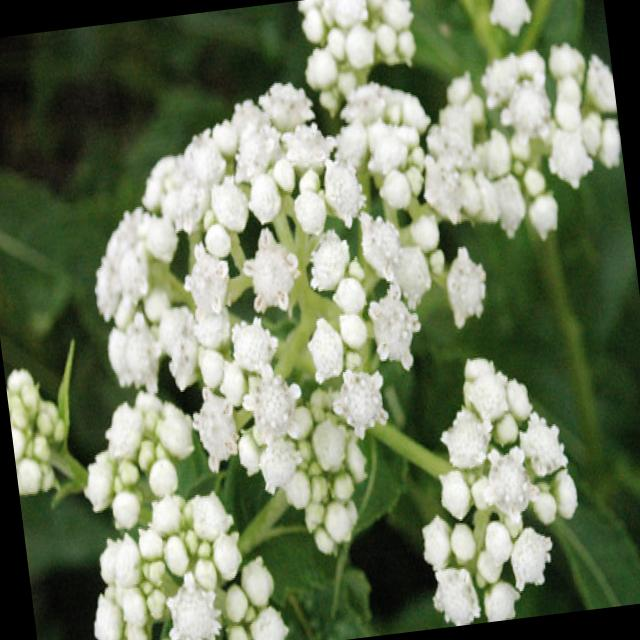Poisonous-Parthenium: (59, 0, 636, 347), (5, 332, 334, 640), (353, 311, 614, 634)
